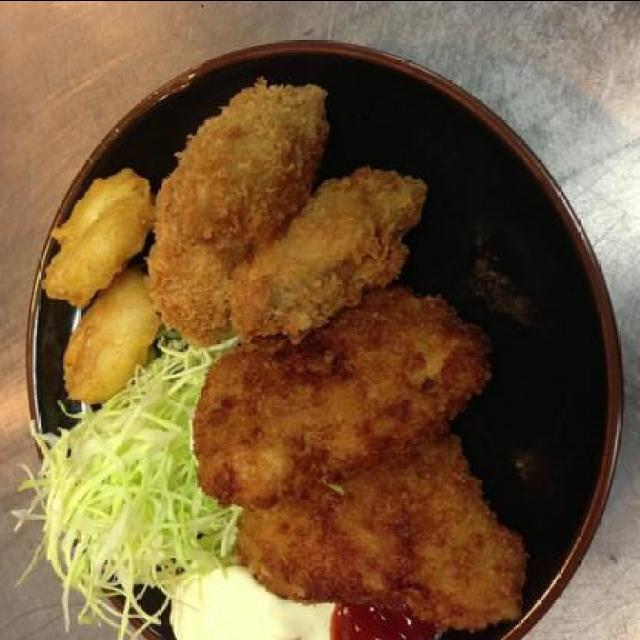Chicken nugget: (189, 44, 546, 636), (41, 186, 138, 397)
Sandwich: (28, 400, 188, 616)
